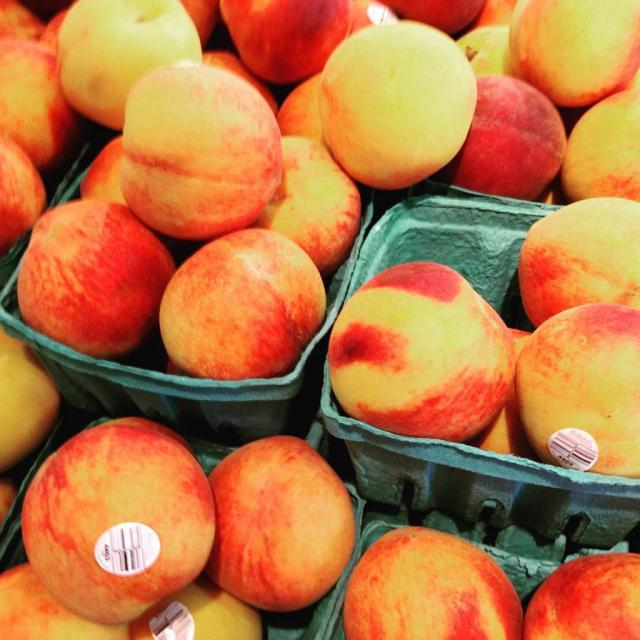Peach: (0, 0, 639, 479), (15, 416, 216, 627), (203, 434, 355, 610), (344, 524, 523, 640), (0, 560, 133, 640), (524, 552, 640, 639), (0, 326, 57, 470), (131, 581, 268, 639), (0, 481, 17, 525)
